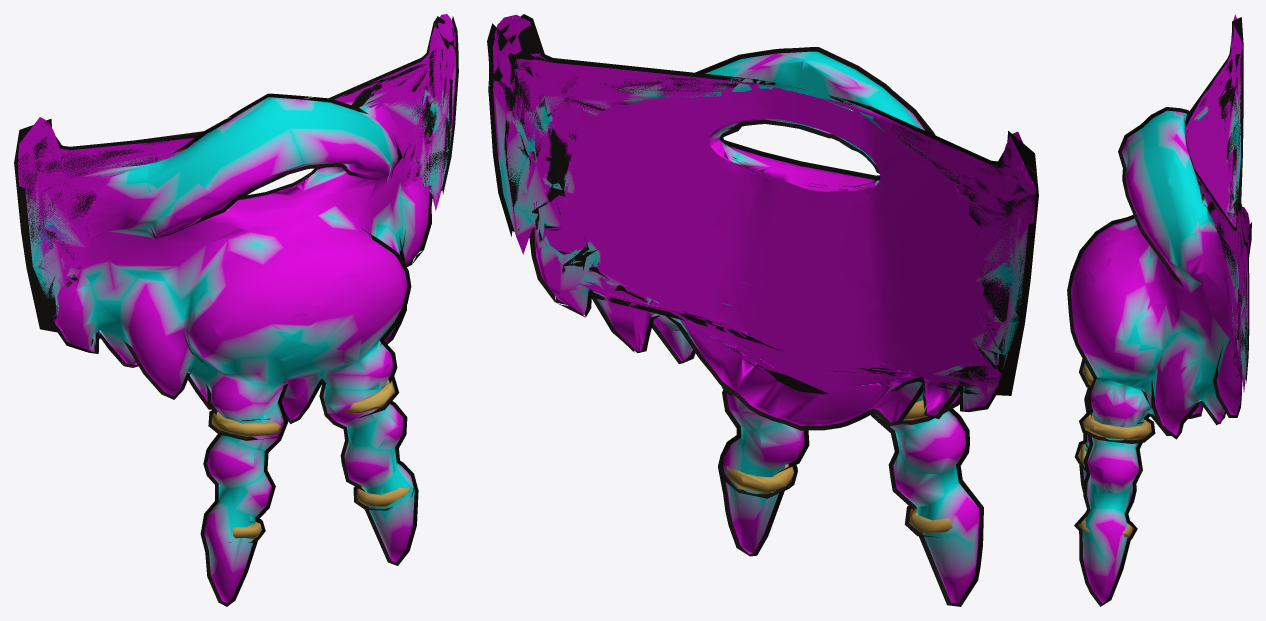
Rendered from beard_forked_male_lo.glb.
The picture shows the model from 3 angles, left to right: view 1: azimuth 30°, elevation 25°; view 2: azimuth 150°, elevation 25°; view 3: azimuth 270°, elevation 25°; orthographic projection. The views are drawn at different scales.
Visible parts, largest first — view 1: beard_forked_male_hi; view 2: beard_forked_male_hi; view 3: beard_forked_male_hi.
Part boxes in pixels (x1,y1,x2,y2): beard_forked_male_hi: [14, 14, 458, 606]; beard_forked_male_hi: [487, 14, 1038, 606]; beard_forked_male_hi: [1067, 14, 1251, 606].
Size of the model in its own units: 0.464 by 0.465 by 0.1706.
